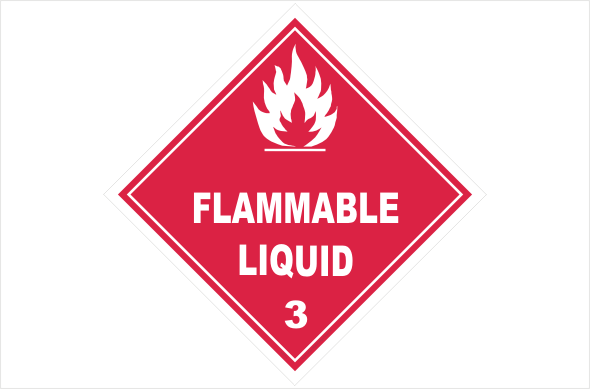FlammableLiquid: (124, 24, 467, 360)
